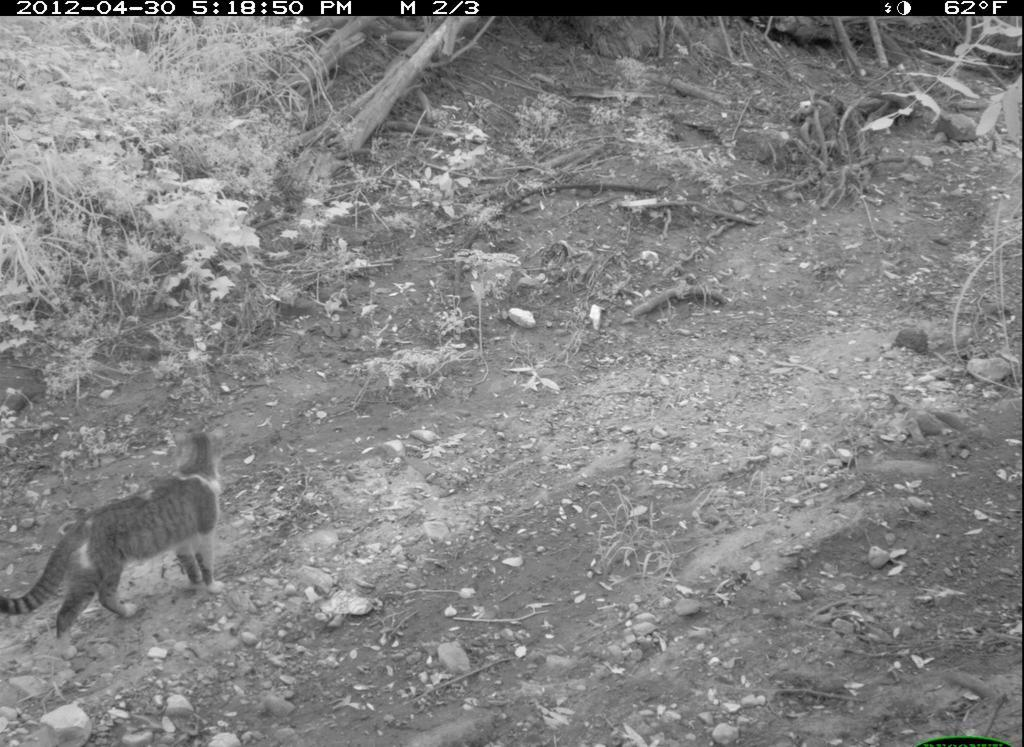cat: (1, 423, 226, 661)
